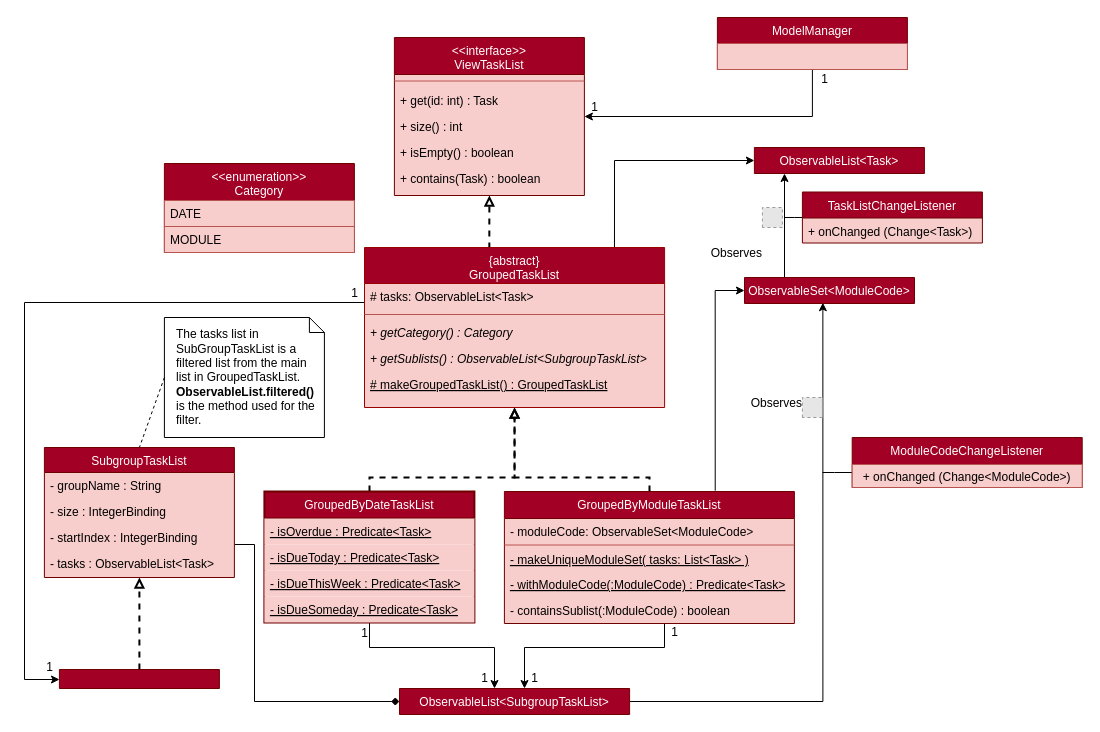
Some shapes in this 1100 by 732 pixel diagram are drawn without their labels. Grey dashed boxes stand in for pictures. The centre of each missing label's shape, as x and y in pixels:
"- lastShownList : ViewTaskList" goes at [811,56].
"PinnedTaskList" goes at [138,678].
